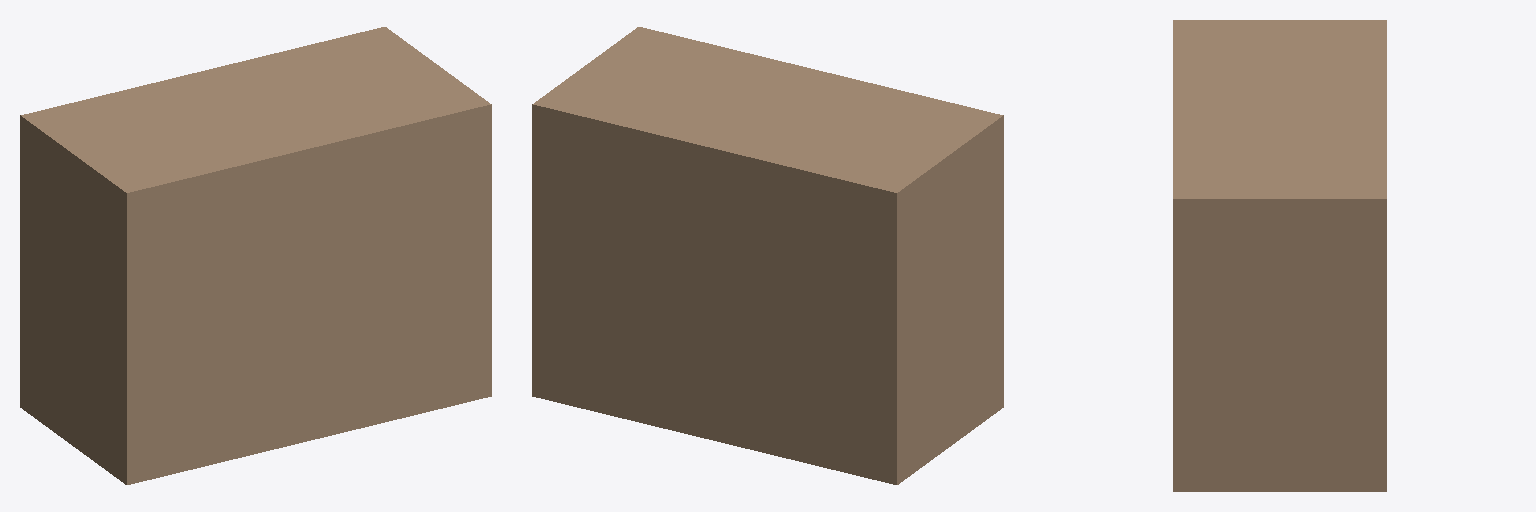
The robot description file, URDF, robot "box.urdf":
<?xml version="1.0" ?>
<robot name="box.urdf">
  <link name="baseLink">
    <contact>
      <lateral_friction value="1.0"/>
      <rolling_friction value="0.0001"/>
      <inertia_scaling value="3.0"/>
    </contact>
    <inertial>
      <origin rpy="0 0 0" xyz="0 0 0"/>
       <mass value="0.1"/>
       <inertia ixx="1" ixy="0" ixz="0" iyy="1" iyz="0" izz="1"/>
    </inertial>
    <visual>
      <origin rpy="0 0 0" xyz="0 0 0"/>
      <geometry>
        <!-- <box size="0.303 0.153 0.23199999999999998"/> -->
        <mesh filename="box/box.obj" scale="0.303 0.153 0.23199999999999998"/>
      </geometry>
      <material name="white">
        <color rgba="0.7 0.6 0.5 1"/>
      </material>
    </visual>
    <collision>
      <origin rpy="0 0 0" xyz="0 0 0"/>
      <geometry>
        <mesh filename="box/box.obj" scale="0.303 0.153 0.23199999999999998"/>
	 	    <!-- <box size="0.303 0.153 0.23199999999999998"/> -->
      </geometry>
    </collision>
  </link>
</robot>

--- Facts derived from the render (not from the file) ---
3 views of the same robot in one strip: view 1: azimuth 30°, elevation 25°; view 2: azimuth 150°, elevation 25°; view 3: azimuth 270°, elevation 25° (orthographic).
Model box.urdf with 1 links and 0 joints (none), rooted at baseLink, posed every joint at zero.
Visible links, largest first — view 1: baseLink; view 2: baseLink; view 3: baseLink.
Link boxes in pixels (x1,y1,x2,y2): baseLink: [20, 27, 491, 484]; baseLink: [532, 27, 1003, 484]; baseLink: [1173, 20, 1386, 491].
Bounding box of the posed robot: 0.303 × 0.153 × 0.232 m (x, y, z).
Meshes: 1 distinct files referenced, 1 mesh visuals loaded (1 OBJ).
